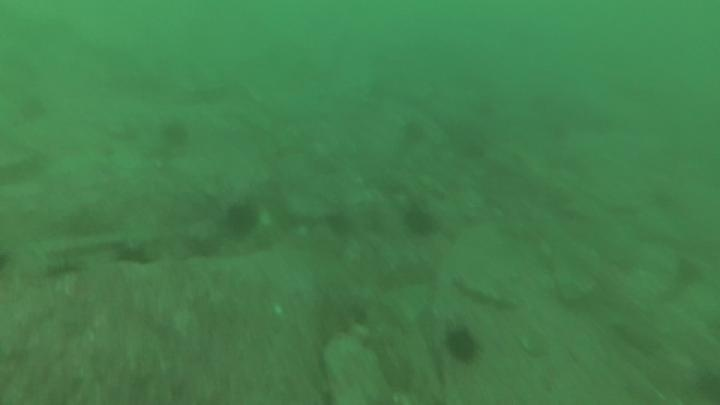echinus: (443, 325, 482, 366), (222, 200, 262, 239), (111, 240, 157, 269), (401, 205, 438, 239), (672, 255, 706, 288), (158, 118, 192, 150), (323, 209, 355, 240), (399, 118, 428, 147)
